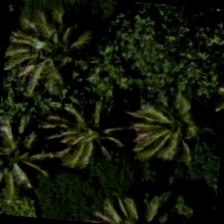Kelapa_Sawit: (28, 77, 126, 175), (122, 80, 220, 178), (1, 3, 81, 98), (0, 110, 67, 206)
